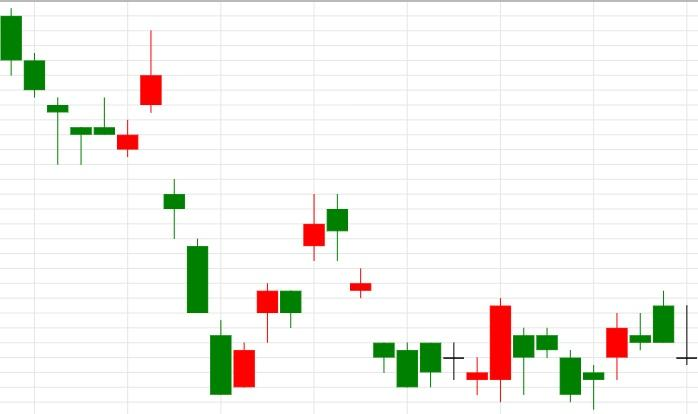bearish_engulfing_fall: (209, 194, 348, 395)
